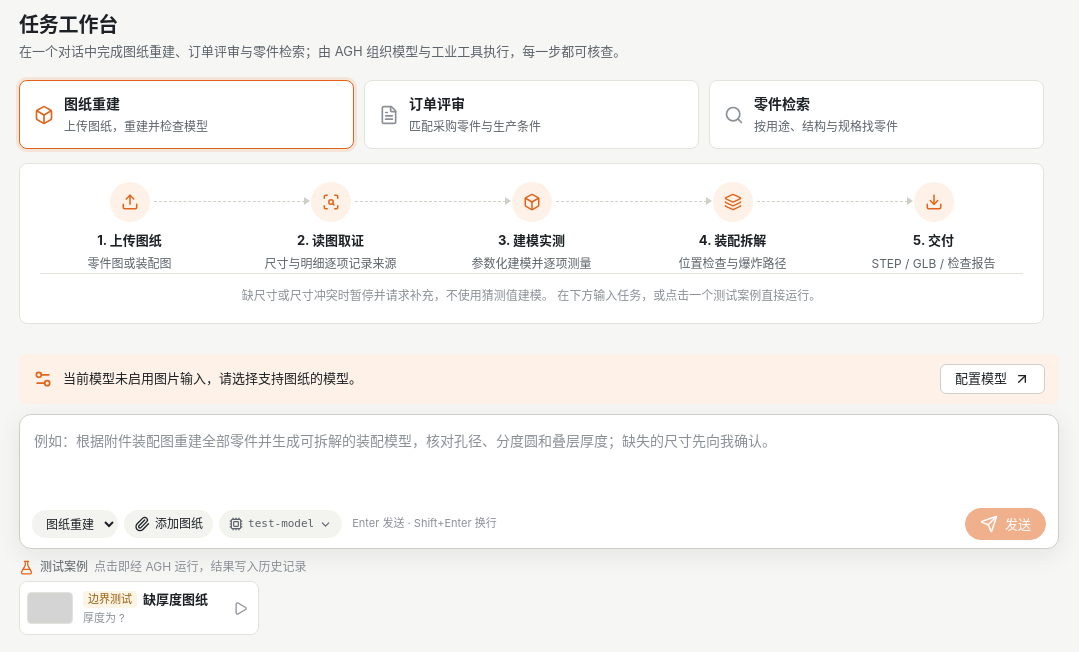
Scenario: TaskWorkspace input and execution evidence › blocks drawing reconstruction on text-only models while retaining catalog search
The width and height of the screenshot is (1079, 652).
expect the text "当前模型未启用图片输入，请选择支持图纸的模型。" is shown: met, box [63,370,362,386]
expect the button with aria-label "开始任务" is disabled: met, box [965,508,1046,540]
Select "零件检索" in the dropdown named "任务类型" at (75, 524), box [32,510,118,538]
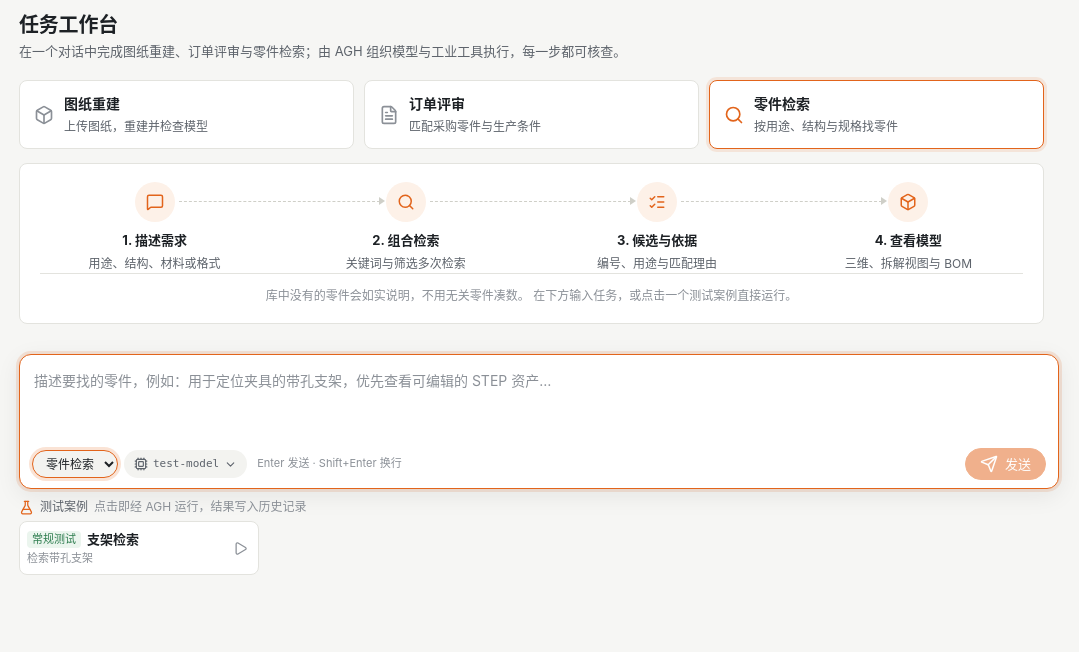
Type "查找定位支架" into the text box named "这次需要完成什么？" at (539, 403), box [32,365,1046,442]
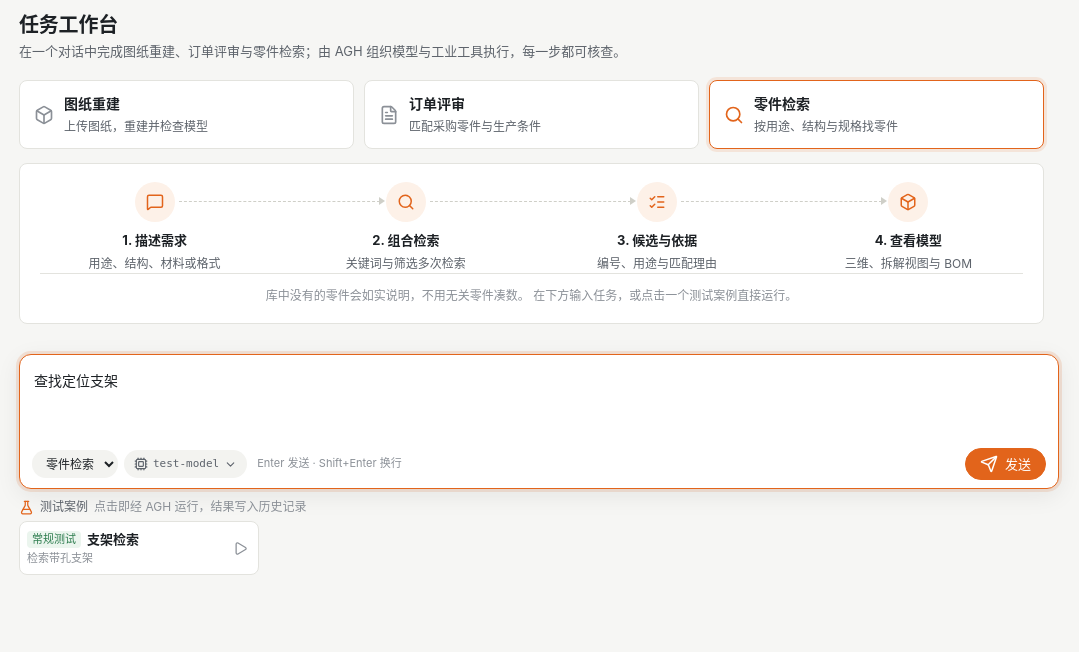
expect the button with aria-label "开始任务" is enabled: met, box [965,448,1046,480]
